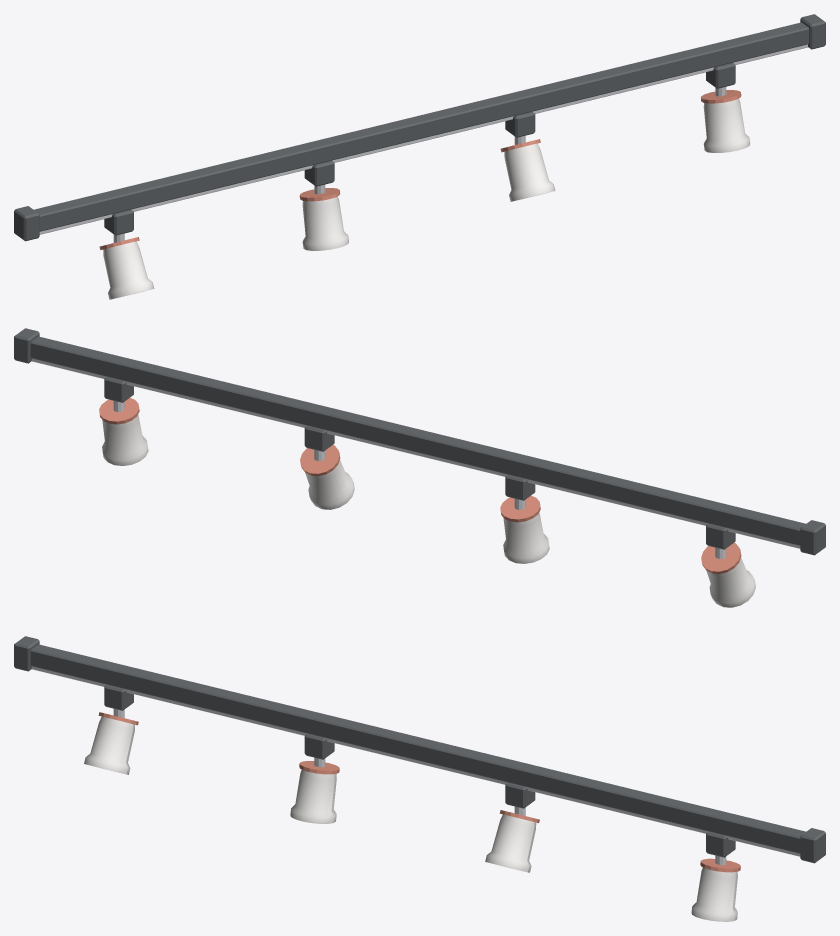
The model's file is retail-store-fixtures-and-mall-ceiling-track-lighting--9cadd166.glb.
The picture shows the model from 3 angles, top to bottom: view 1: azimuth 30°, elevation 25°; view 2: azimuth 150°, elevation 25°; view 3: azimuth 330°, elevation 25°; orthographic projection.
Visible parts, largest first — view 1: ceiling-track-lighting-bar; view 2: ceiling-track-lighting-bar; view 3: ceiling-track-lighting-bar.
Boxes of the visible parts, x1=… form: ceiling-track-lighting-bar: x1=14, y1=14, x2=825, y2=299; ceiling-track-lighting-bar: x1=14, y1=328, x2=825, y2=607; ceiling-track-lighting-bar: x1=14, y1=636, x2=825, y2=921.
Bounding box in the file's own units: 2 × 0.2538 × 0.1416.
